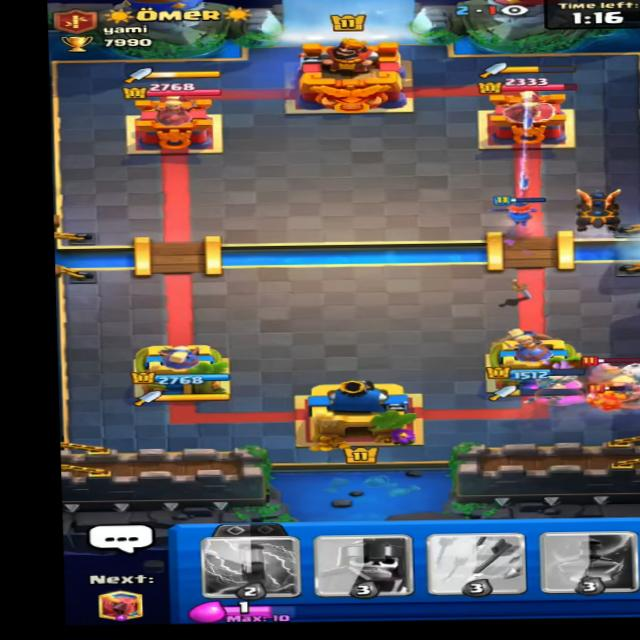goblin: (578, 384, 635, 413)
goblin-drill: (569, 354, 640, 411)
